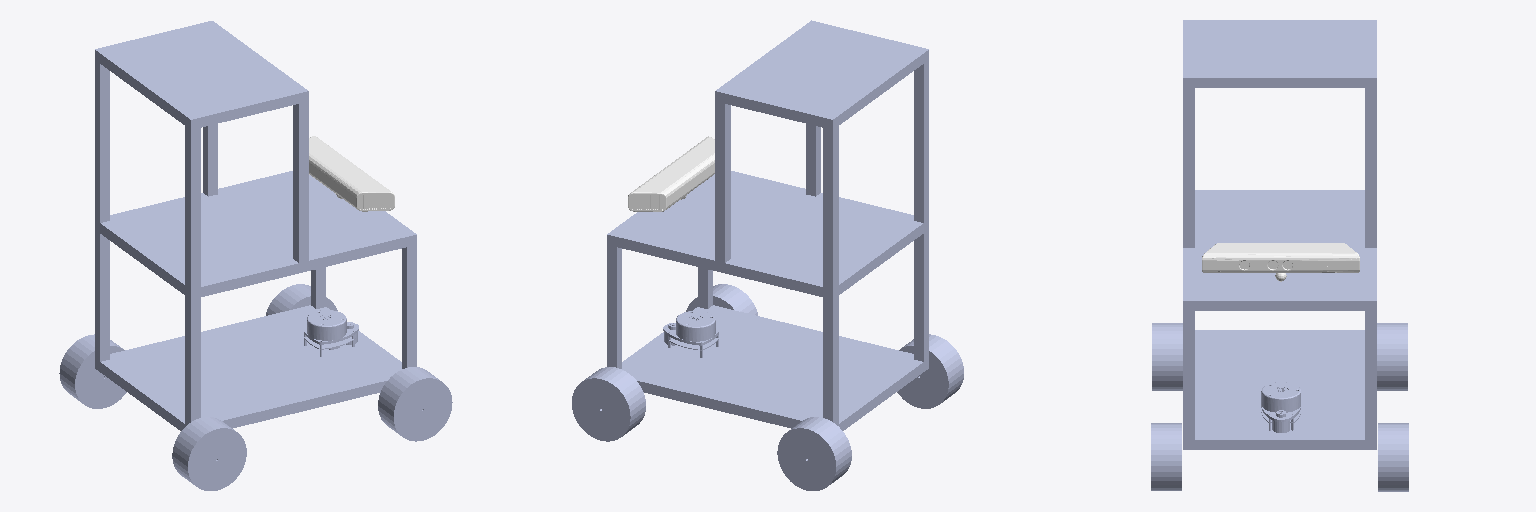
URDF robot description (mobile_robot_description):
<?xml version="1.0" encoding="utf-8"?>
<!-- This URDF was automatically created by SolidWorks to URDF Exporter! Originally created by [author] ([email redacted]) 
     Commit Version: 1.6.0-1-g15f4949  Build Version: 1.6.7594.29634
     For more information, please see http://wiki.ros.org/sw_urdf_exporter -->
<robot
  name="mobile_robot_description">
  <link
    name="base_link">
    <inertial>
      <origin
        xyz="-0.026648 5.5511E-17 0.22833"
        rpy="0 0 0" />
      <mass
        value="8.784" />
      <inertia
        ixx="0.52301"
        ixy="-2.1112E-17"
        ixz="0.075657"
        iyy="0.58711"
        iyz="-1.0443E-16"
        izz="0.26201" />
    </inertial>
    <visual>
      <origin
        xyz="0 0 0"
        rpy="0 0 0" />
      <geometry>
        <mesh
          filename="package://mobile_robot_description/meshes/base_link.STL" />
      </geometry>
      <material
        name="">
        <color
          rgba="0.79216 0.81961 0.93333 1" />
      </material>
    </visual>
    <collision>
      <origin
        xyz="0 0 0"
        rpy="0 0 0" />
      <geometry>
        <mesh
          filename="package://mobile_robot_description/meshes/base_link.STL" />
      </geometry>
    </collision>
  </link>
  <link
    name="link_right_front">
    <inertial>
      <origin
        xyz="3.636E-14 6.7391E-14 1.2046E-14"
        rpy="0 0 0" />
      <mass
        value="0.62134" />
      <inertia
        ixx="0.00071646"
        ixy="2.4264E-23"
        ixz="5.9787E-36"
        iyy="0.0011197"
        iyz="1.4513E-18"
        izz="0.00071646" />
    </inertial>
    <visual>
      <origin
        xyz="0 0 0"
        rpy="0 0 0" />
      <geometry>
        <mesh
          filename="package://mobile_robot_description/meshes/link_right_front.STL" />
      </geometry>
      <material
        name="">
        <color
          rgba="0.79216 0.81961 0.93333 1" />
      </material>
    </visual>
    <collision>
      <origin
        xyz="0 0 0"
        rpy="0 0 0" />
      <geometry>
        <mesh
          filename="package://mobile_robot_description/meshes/link_right_front.STL" />
      </geometry>
    </collision>
  </link>
  <joint
    name="joint_right_front"
    type="continuous">
    <origin
      xyz="0.20923 -0.19953 -0.043282"
      rpy="0 0 0" />
    <parent
      link="base_link" />
    <child
      link="link_right_front" />
    <axis
      xyz="0 -1 0" />
    <limit
      effort="2"
      velocity="2" />
  </joint>
  <link
    name="link_right_back">
    <inertial>
      <origin
        xyz="1.13728471085039E-13 9.64783808399261E-14 4.82947015711943E-14"
        rpy="0 0 0" />
      <mass
        value="0.621344195026989" />
      <inertia
        ixx="0.000716461635549037"
        ixy="2.42639646349009E-23"
        ixz="5.97870409487556E-36"
        iyy="0.00111966223943863"
        iyz="1.45133576264986E-18"
        izz="0.000716461635549037" />
    </inertial>
    <visual>
      <origin
        xyz="0 0 0"
        rpy="0 0 0" />
      <geometry>
        <mesh
          filename="package://mobile_robot_description/meshes/link_right_back.STL" />
      </geometry>
      <material
        name="">
        <color
          rgba="0.792156862745098 0.819607843137255 0.933333333333333 1" />
      </material>
    </visual>
    <collision>
      <origin
        xyz="0 0 0"
        rpy="0 0 0" />
      <geometry>
        <mesh
          filename="package://mobile_robot_description/meshes/link_right_back.STL" />
      </geometry>
    </collision>
  </link>
  <joint
    name="joint_right_back"
    type="continuous">
    <origin
      xyz="-0.20869 -0.19855 -0.04329"
      rpy="0 0 0" />
    <parent
      link="base_link" />
    <child
      link="link_right_back" />
    <axis
      xyz="0 -1 0" />
    <limit
      effort="2"
      velocity="2" />
  </joint>
  <link
    name="link_left_front">
    <inertial>
      <origin
        xyz="1.66533453693773E-16 -7.64943663966733E-14 3.57880391987919E-13"
        rpy="0 0 0" />
      <mass
        value="0.62134419502699" />
      <inertia
        ixx="0.000716461635549038"
        ixy="-1.23988859284282E-20"
        ixz="-7.74888424345354E-36"
        iyy="0.00111966223943864"
        iyz="1.45133576264986E-18"
        izz="0.000716461635549038" />
    </inertial>
    <visual>
      <origin
        xyz="0 0 0"
        rpy="0 0 0" />
      <geometry>
        <mesh
          filename="package://mobile_robot_description/meshes/link_left_front.STL" />
      </geometry>
      <material
        name="">
        <color
          rgba="0.792156862745098 0.819607843137255 0.933333333333333 1" />
      </material>
    </visual>
    <collision>
      <origin
        xyz="0 0 0"
        rpy="0 0 0" />
      <geometry>
        <mesh
          filename="package://mobile_robot_description/meshes/link_left_front.STL" />
      </geometry>
    </collision>
  </link>
  <joint
    name="joint_left_front"
    type="continuous">
    <origin
      xyz="0.20904 0.19918 -0.043498"
      rpy="0 0 0" />
    <parent
      link="base_link" />
    <child
      link="link_left_front" />
    <axis
      xyz="0 -1 0" />
    <limit
      effort="2"
      velocity="2" />
  </joint>
  <link
    name="link_left_back">
    <inertial>
      <origin
        xyz="-2.08166817117217E-16 -7.52731210695856E-14 3.34343663865866E-13"
        rpy="0 0 0" />
      <mass
        value="0.62134419502699" />
      <inertia
        ixx="0.000716461635549038"
        ixy="1.23988859284282E-20"
        ixz="5.97870409487527E-36"
        iyy="0.00111966223943864"
        iyz="1.45133576264986E-18"
        izz="0.000716461635549038" />
    </inertial>
    <visual>
      <origin
        xyz="0 0 0"
        rpy="0 0 0" />
      <geometry>
        <mesh
          filename="package://mobile_robot_description/meshes/link_left_back.STL" />
      </geometry>
      <material
        name="">
        <color
          rgba="0.792156862745098 0.819607843137255 0.933333333333333 1" />
      </material>
    </visual>
    <collision>
      <origin
        xyz="0 0 0"
        rpy="0 0 0" />
      <geometry>
        <mesh
          filename="package://mobile_robot_description/meshes/link_left_back.STL" />
      </geometry>
    </collision>
  </link>
  <joint
    name="joint_left_back"
    type="continuous">
    <origin
      xyz="-0.20905 0.19831 -0.043348"
      rpy="0 0 0" />
    <parent
      link="base_link" />
    <child
      link="link_left_back" />
    <axis
      xyz="0 -1 0" />
    <limit
      effort="2"
      velocity="2" />
  </joint>
  <link
    name="link_lidar">
    <inertial>
      <origin
        xyz="0.00676653011666362 -9.19261111640979E-05 -0.0224318722671596"
        rpy="0 0 0" />
      <mass
        value="1.33076913637071" />
      <inertia
        ixx="0.000614917940454091"
        ixy="-8.01984318975587E-07"
        ixz="0.00015824302591117"
        iyy="0.000960697335617221"
        iyz="-3.09162986587636E-06"
        izz="0.00109815200027136" />
    </inertial>
    <visual>
      <origin
        xyz="0 0 0"
        rpy="0 0 0" />
      <geometry>
        <mesh
          filename="package://mobile_robot_description/meshes/link_lidar.STL" />
      </geometry>
      <material
        name="">
        <color
          rgba="0.792156862745098 0.819607843137255 0.933333333333333 1" />
      </material>
    </visual>
    <collision>
      <origin
        xyz="0 0 0"
        rpy="0 0 0" />
      <geometry>
        <mesh
          filename="package://mobile_robot_description/meshes/link_lidar.STL" />
      </geometry>
    </collision>
  </link>
  <joint
    name="joint_lidar"
    type="fixed">
    <origin
      xyz="0.14588 0.0021614 0.0577"
      rpy="0 0 0" />
    <parent
      link="base_link" />
    <child
      link="link_lidar" />
    <axis
      xyz="0 0 0" />
  </joint>
  <link
    name="link_camera">
    <inertial>
      <origin
        xyz="0 0 0"
        rpy="0 0 0" />
      <mass
        value="0" />
      <inertia
        ixx="0"
        ixy="0"
        ixz="0"
        iyy="0"
        iyz="0"
        izz="0" />
    </inertial>
    <visual>
      <origin
        xyz="0 0 0"
        rpy="0 0 0" />
      <geometry>
        <mesh
          filename="package://mobile_robot_description/meshes/link_camera.STL" />
      </geometry>
      <material
        name="">
        <color
          rgba="1 1 1 1" />
      </material>
    </visual>
    <collision>
      <origin
        xyz="0 0 0"
        rpy="0 0 0" />
      <geometry>
        <mesh
          filename="package://mobile_robot_description/meshes/link_camera.STL" />
      </geometry>
    </collision>
  </link>
  <joint
    name="joint_camera"
    type="fixed">
    <origin
      xyz="0.17869 0.0016735 0.30465"
      rpy="0 0 0" />
    <parent
      link="base_link" />
    <child
      link="link_camera" />
    <axis
      xyz="0 0 0" />
  </joint>
</robot>

--- Render facts (derived) ---
3 views of the same robot in one strip: view 1: azimuth 30°, elevation 25°; view 2: azimuth 150°, elevation 25°; view 3: azimuth 270°, elevation 25° (orthographic).
Model mobile_robot_description with 7 links and 6 joints (4 continuous, 2 fixed), rooted at base_link, posed every joint at zero.
Visible links, largest first — view 1: base_link, link_right_back, link_right_front, link_camera, link_left_back, link_lidar, link_left_front; view 2: base_link, link_left_front, link_left_back, link_camera, link_right_back, link_lidar, link_right_front; view 3: base_link, link_camera, link_left_front, link_right_front, link_right_back, link_left_back, link_lidar.
Link boxes in pixels (bbox=[...]): base_link: bbox=[95, 21, 416, 430]; link_right_back: bbox=[172, 417, 246, 490]; link_right_front: bbox=[378, 367, 452, 441]; link_camera: bbox=[309, 136, 394, 211]; link_left_back: bbox=[59, 334, 126, 408]; link_lidar: bbox=[304, 310, 358, 356]; link_left_front: bbox=[266, 284, 337, 315]; base_link: bbox=[607, 20, 928, 430]; link_left_front: bbox=[572, 367, 645, 441]; link_left_back: bbox=[777, 417, 851, 490]; link_camera: bbox=[628, 136, 714, 211]; link_right_back: bbox=[897, 334, 963, 408]; link_lidar: bbox=[663, 311, 718, 357]; link_right_front: bbox=[686, 284, 757, 315]; base_link: bbox=[1183, 20, 1376, 449]; link_camera: bbox=[1202, 243, 1359, 281]; link_left_front: bbox=[1378, 423, 1408, 491]; link_right_front: bbox=[1151, 423, 1181, 490]; link_right_back: bbox=[1152, 323, 1182, 390]; link_left_back: bbox=[1377, 323, 1407, 390]; link_lidar: bbox=[1261, 382, 1300, 432].
Bounding box of the posed robot: 0.5383 × 0.4537 × 0.7033 m (x, y, z).
7 mesh visuals loaded from 7 distinct referenced files (7 binary STL).